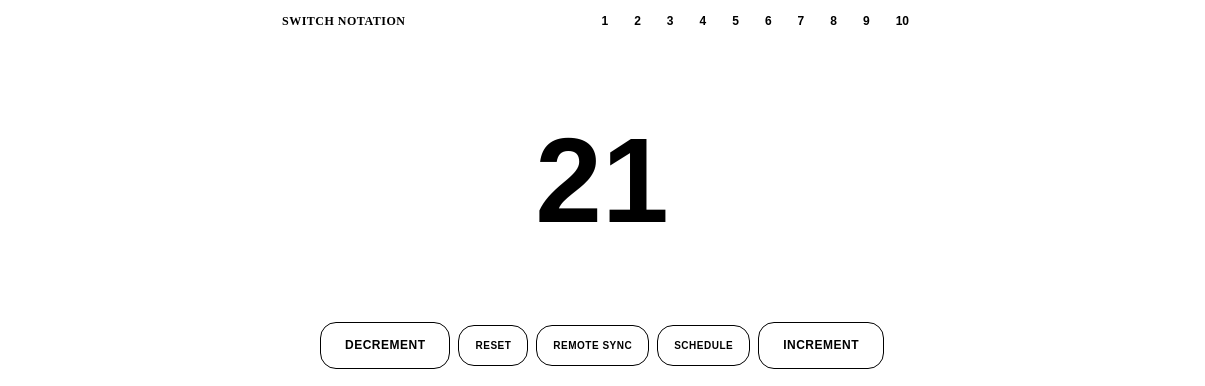
Test: Counter › should sync value
Click the button "Remote Sync": (593, 346) [536, 325, 649, 366]
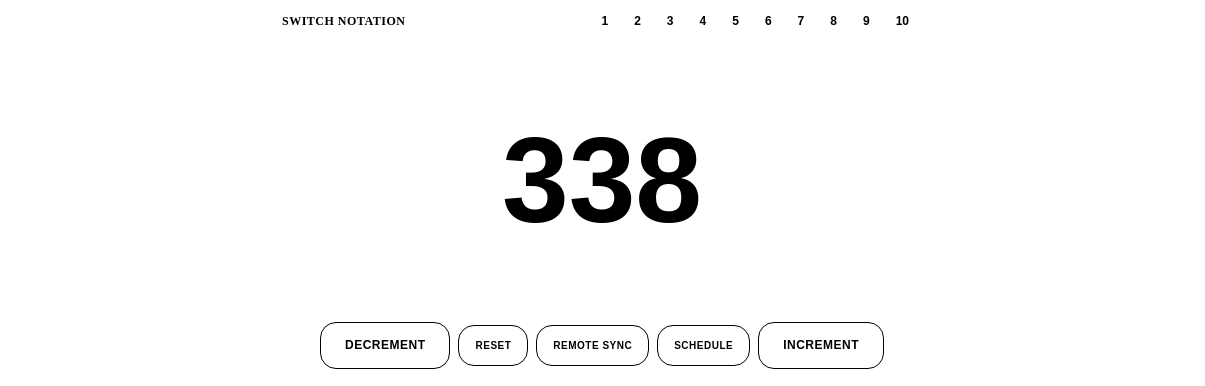
Expected: the number field named "counter-value" holds "338", [16, 94, 1188, 266]
